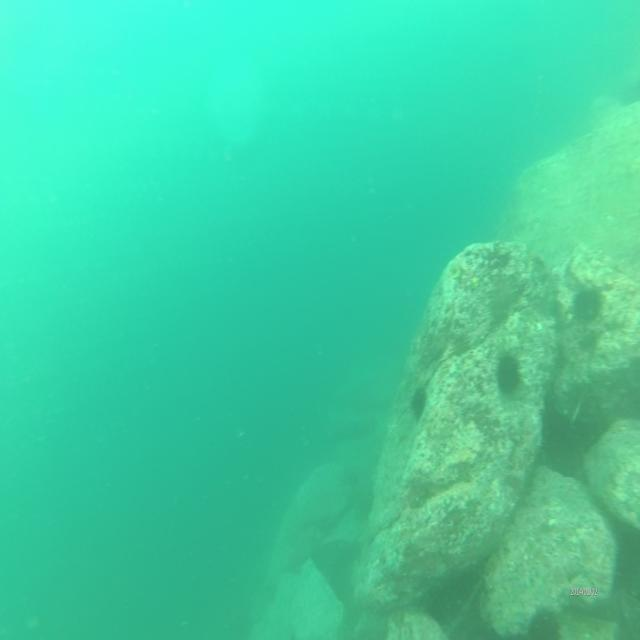echinus: (525, 599, 565, 640), (570, 286, 602, 330), (493, 350, 522, 398), (490, 287, 517, 327), (409, 384, 428, 420)
